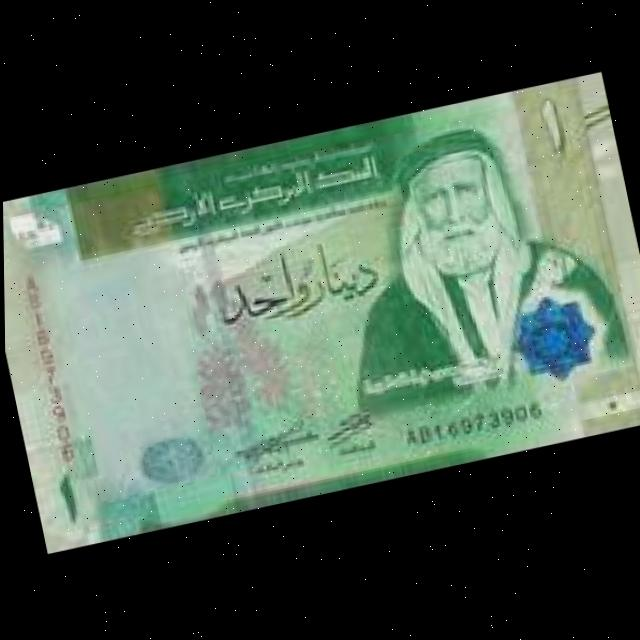banknote: (1, 72, 640, 555)
